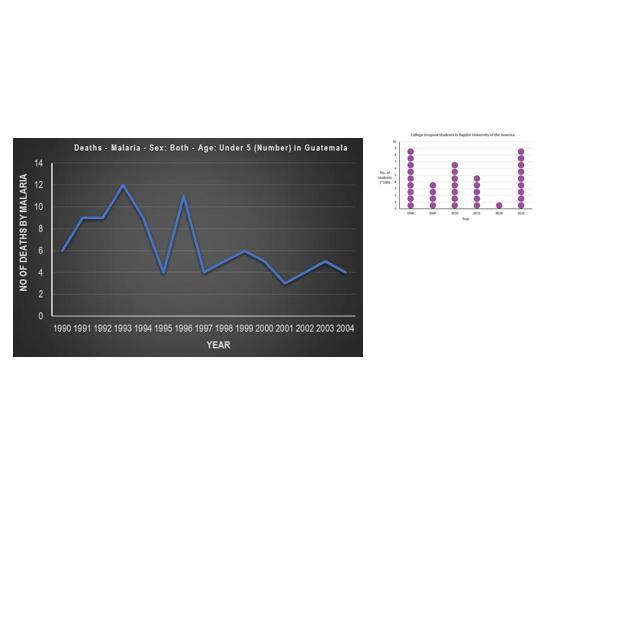Graph: (13, 138, 363, 357), (374, 130, 535, 225)
